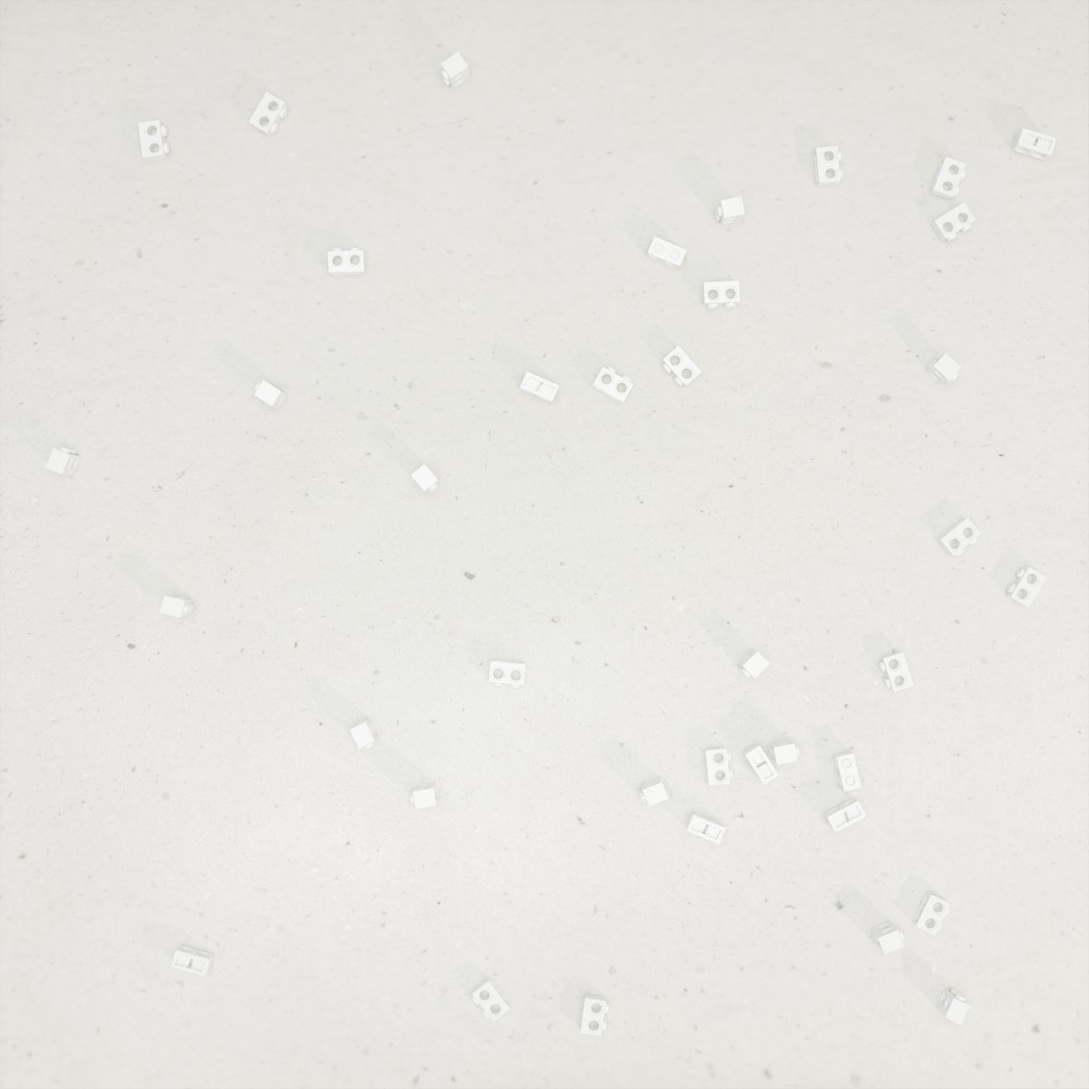lego: (930, 202, 976, 242), (248, 91, 288, 137), (936, 517, 981, 557), (472, 976, 511, 1022), (1006, 566, 1048, 608), (661, 345, 702, 387), (912, 891, 950, 936), (929, 156, 966, 201), (592, 366, 634, 404), (823, 797, 867, 833), (742, 743, 779, 785), (1011, 128, 1057, 160), (879, 651, 914, 692), (646, 236, 687, 270), (685, 811, 726, 845), (171, 945, 214, 977), (138, 120, 170, 162), (520, 371, 559, 404), (936, 988, 970, 1025), (580, 993, 609, 1036), (813, 146, 843, 187), (833, 750, 862, 792), (870, 921, 905, 955), (704, 746, 733, 786), (440, 51, 470, 89), (925, 353, 961, 384), (702, 280, 740, 309), (328, 247, 366, 276), (45, 446, 81, 476), (489, 659, 526, 688), (254, 380, 287, 410), (349, 718, 379, 750), (738, 649, 770, 679), (638, 777, 669, 807), (715, 196, 745, 225), (411, 464, 440, 493), (159, 594, 194, 618), (768, 739, 800, 765), (410, 783, 439, 809)
